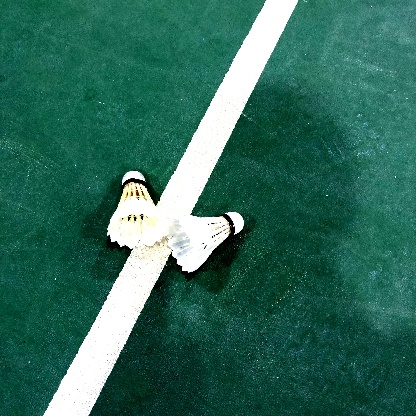ball_single: (107, 170, 169, 249), (164, 212, 244, 273)
